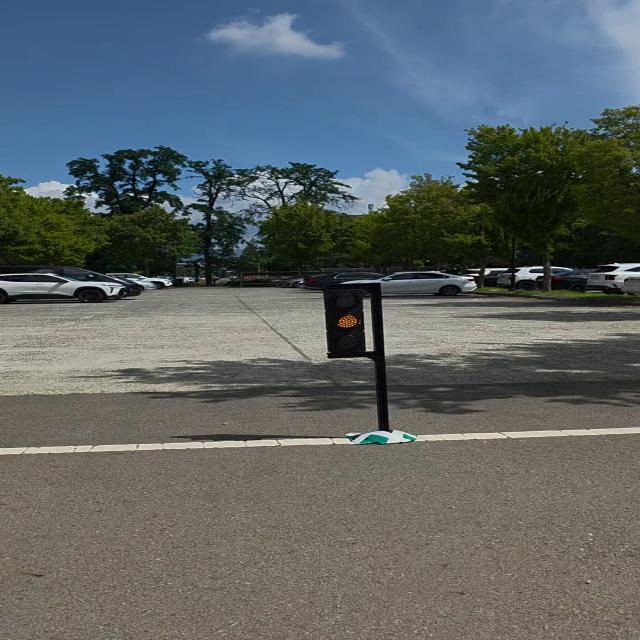yellow: (326, 286, 370, 358)
